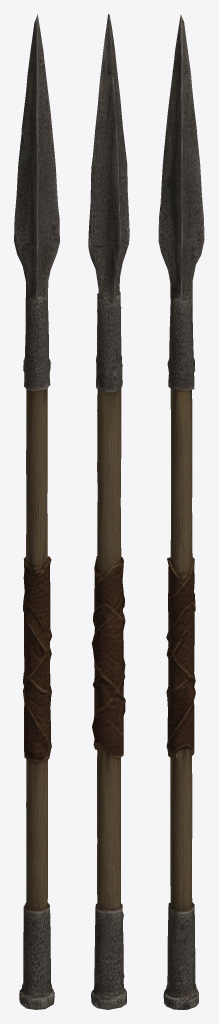
Rendered from itm_guard_spear.glb.
3 views of the same model, side by side, from view 1: azimuth 90°, elevation 25°; view 2: azimuth 210°, elevation 25°; view 3: azimuth 270°, elevation 25° (orthographic).
Visible parts, largest first — view 1: itm_guard_spear; view 2: itm_guard_spear; view 3: itm_guard_spear.
Boxes of the visible parts, x1=… form: itm_guard_spear: x1=14, y1=14, x2=59, y2=1009; itm_guard_spear: x1=88, y1=14, x2=129, y2=1009; itm_guard_spear: x1=158, y1=14, x2=204, y2=1009.
Bounding box in the file's own units: 0.0949 × 2.2 × 0.0928.
Materials: 1 (1 with a texture image).
